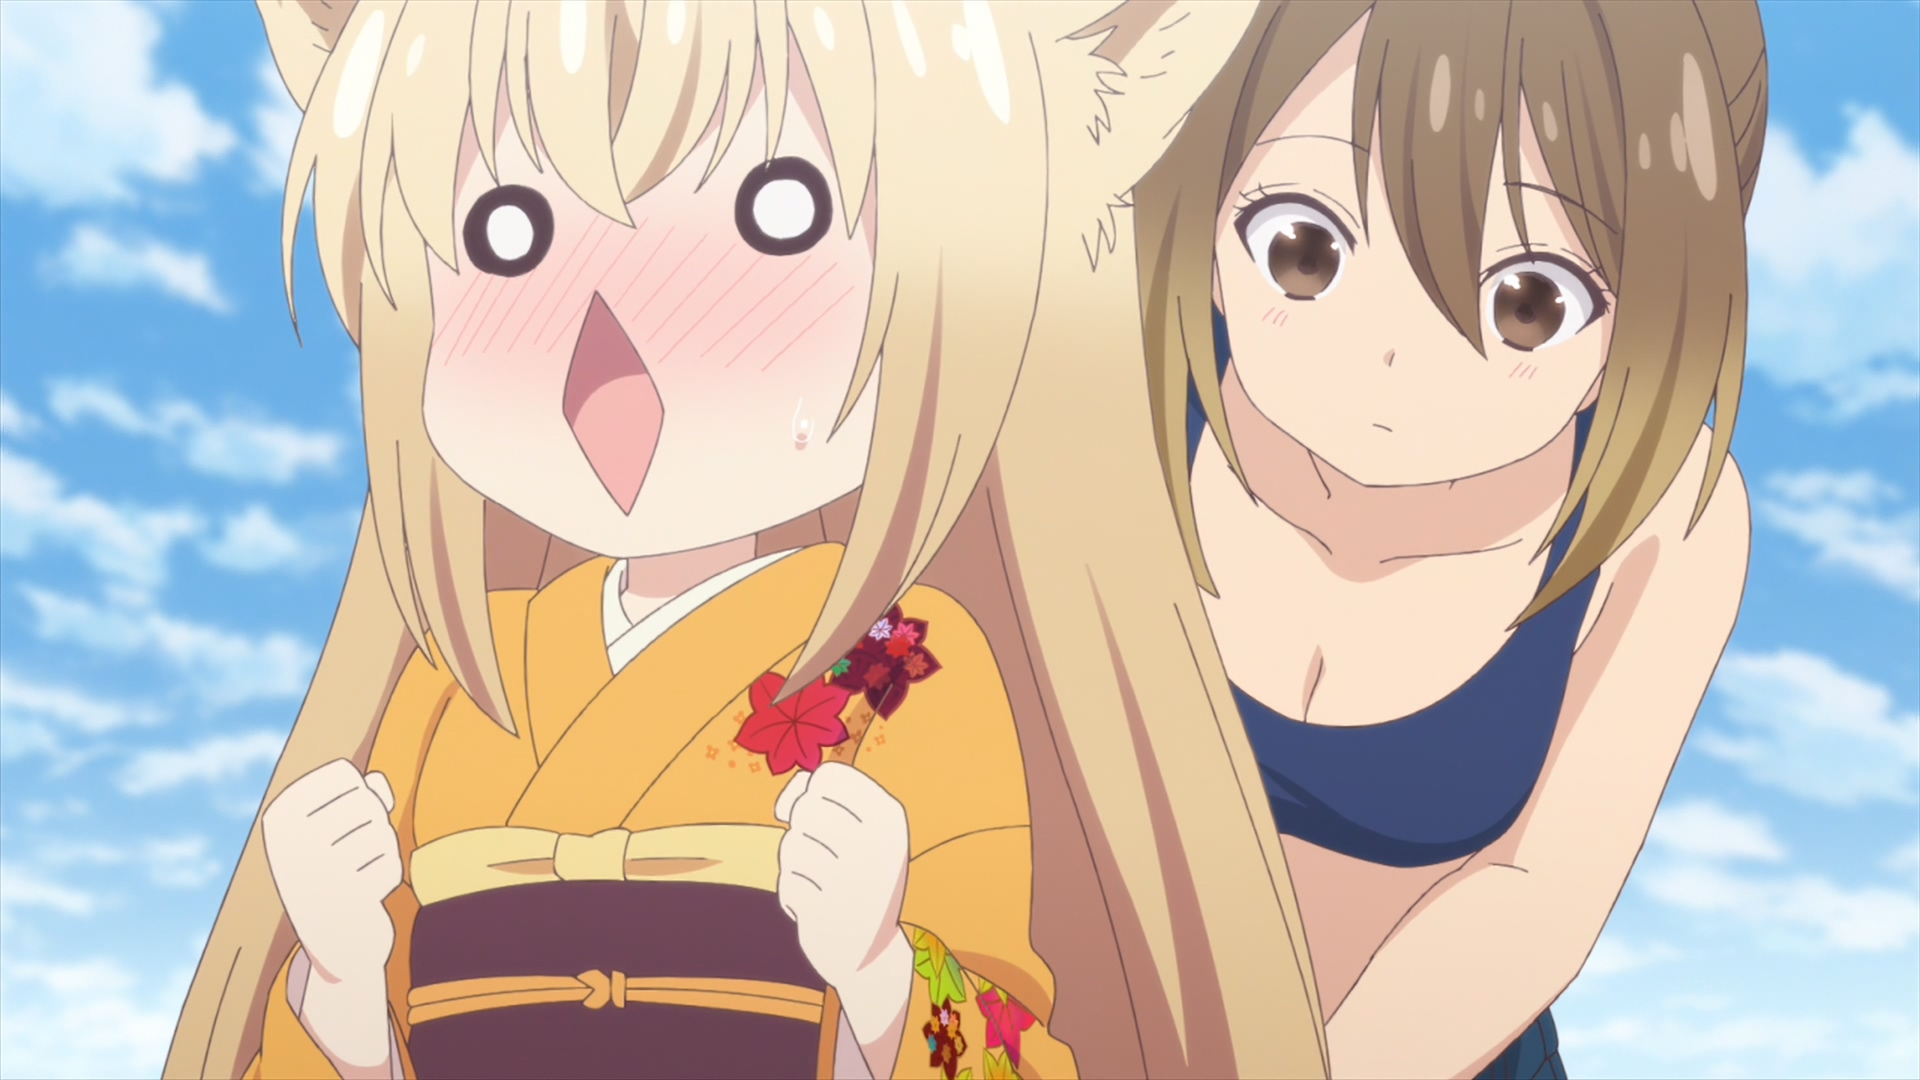其他: (1131, 1, 1768, 1080)
柚: (160, 1, 1331, 1080)
